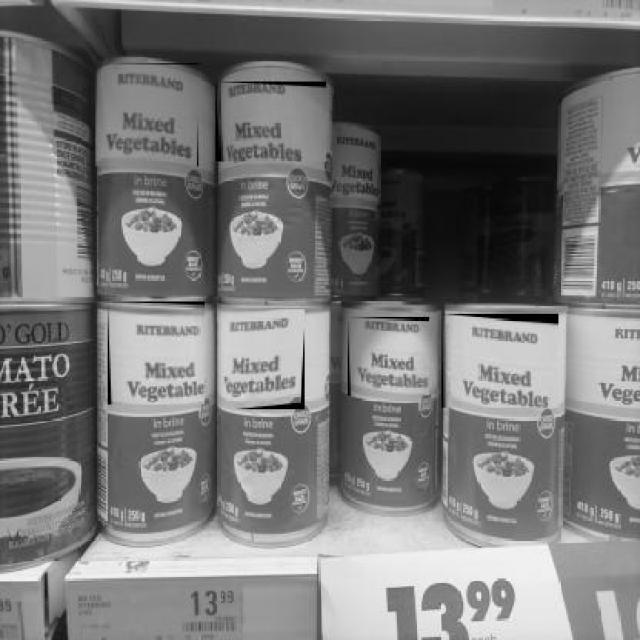Beans: (442, 314, 560, 409), (95, 64, 200, 168), (108, 302, 206, 406), (215, 82, 328, 163), (226, 309, 306, 411), (347, 316, 431, 398)
